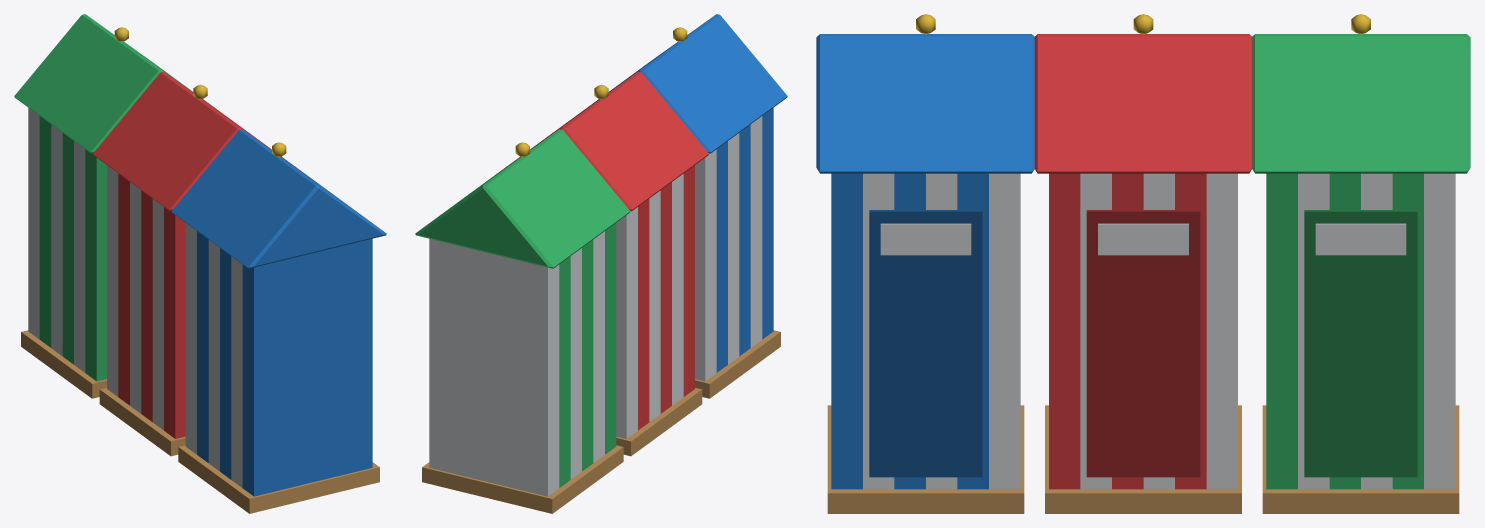
File: aqua-deco3.glb
3 views of the same model, side by side, from view 1: azimuth 30°, elevation 25°; view 2: azimuth 150°, elevation 25°; view 3: azimuth 270°, elevation 25° (orthographic). The views are drawn at different scales.
Visible parts, largest first — view 1: aqua-deco3; view 2: aqua-deco3; view 3: aqua-deco3.
Part boxes in pixels (x1,y1,x2,y2): aqua-deco3: (14,14,386,513); aqua-deco3: (415,14,787,513); aqua-deco3: (816,14,1470,513).
Size of the model in its own units: 1.17 by 2.66 by 3.46.
